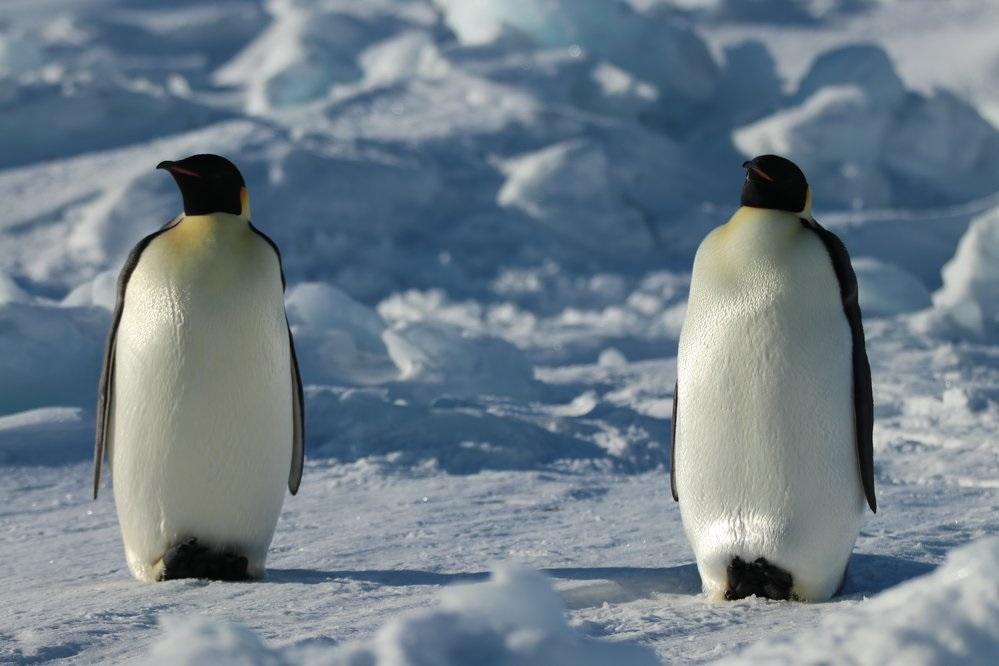emporer: (61, 139, 359, 604), (628, 139, 910, 630)
